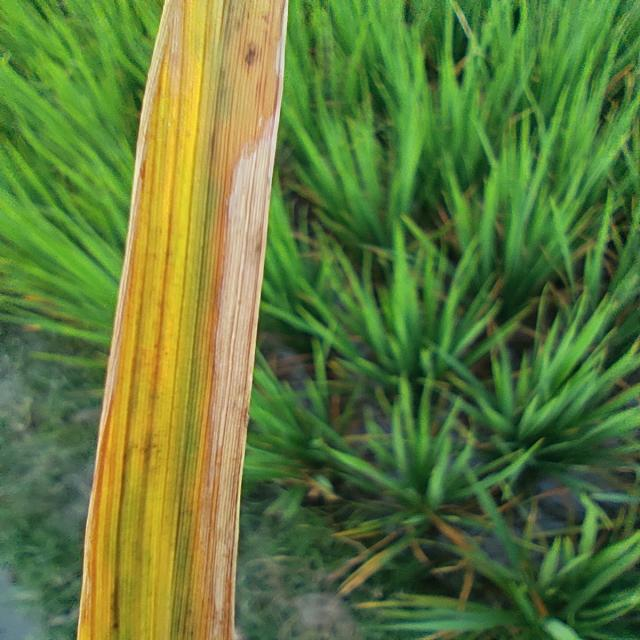Bacterial_Leaf_Blight: (72, 0, 203, 640), (213, 115, 274, 628)
